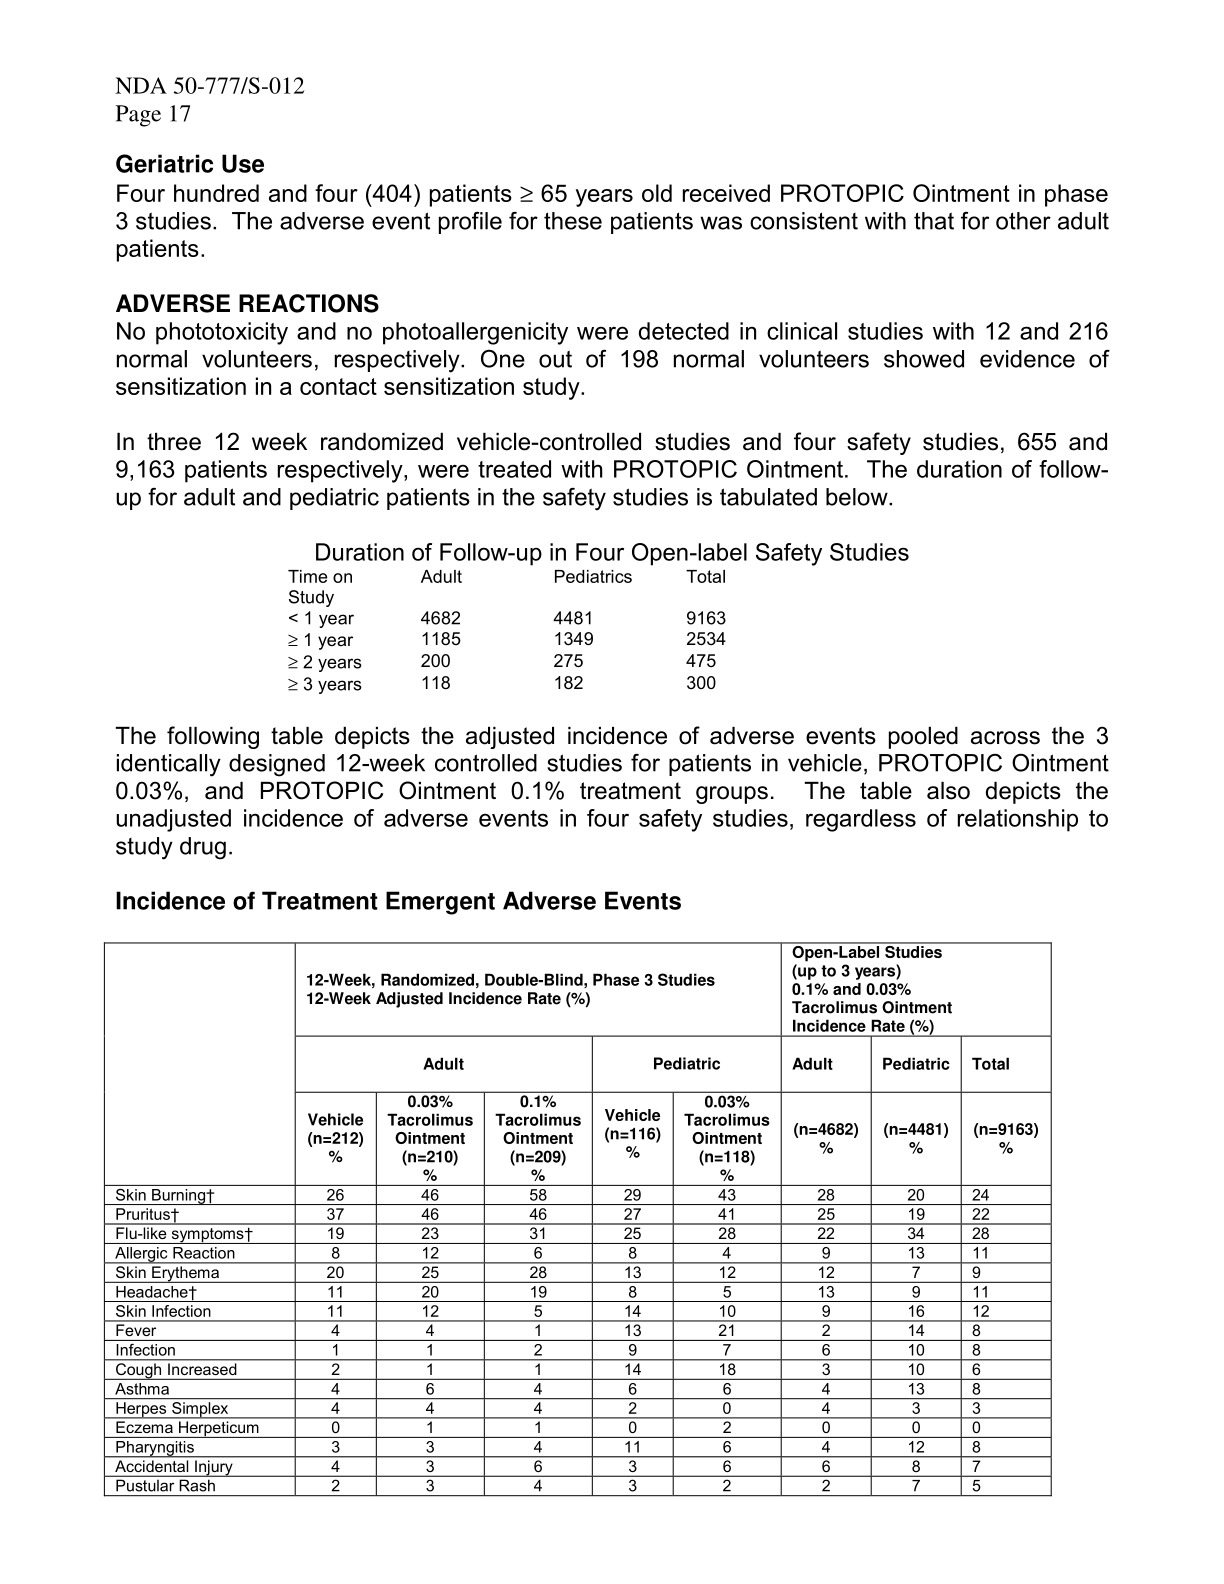merged_cells: (102, 941, 1053, 1497)
nolines: (282, 567, 729, 693)
